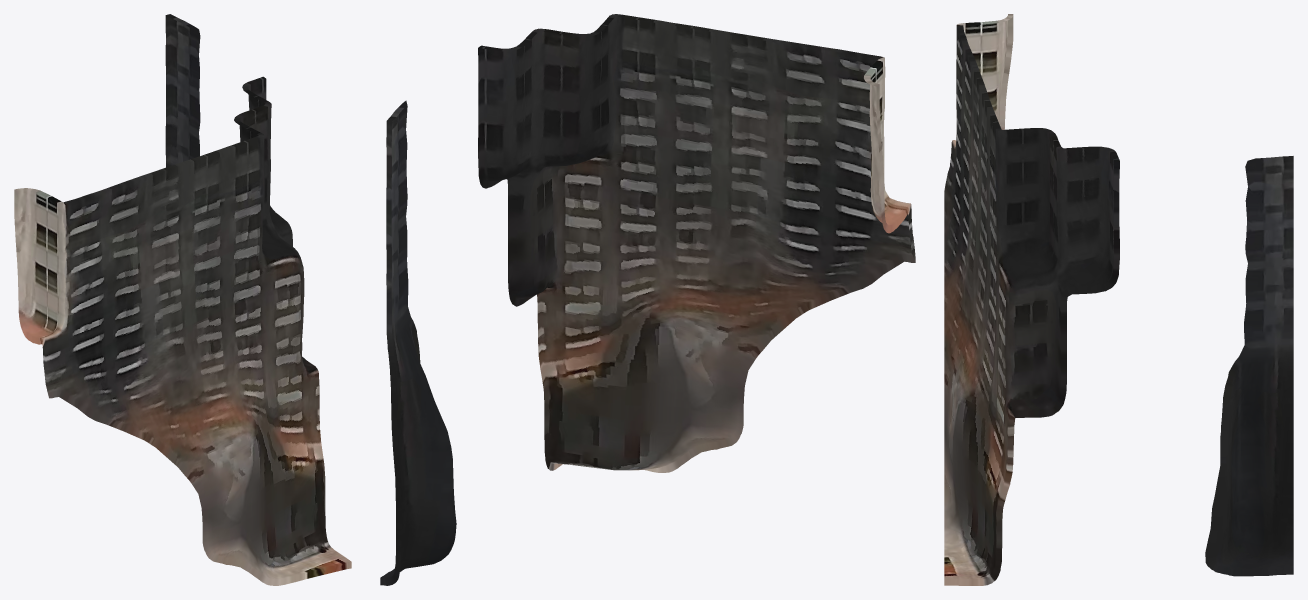
The model's file is z20-167763-405238-h0-yup-uvflip-v3-world.glb.
3 views of the same model, side by side, from view 1: azimuth 30°, elevation 25°; view 2: azimuth 150°, elevation 25°; view 3: azimuth 270°, elevation 25° (orthographic). The views are drawn at different scales.
Size of the model in its own units: 30.16 by 40.72 by 30.32.
1 material, 1 textured.
